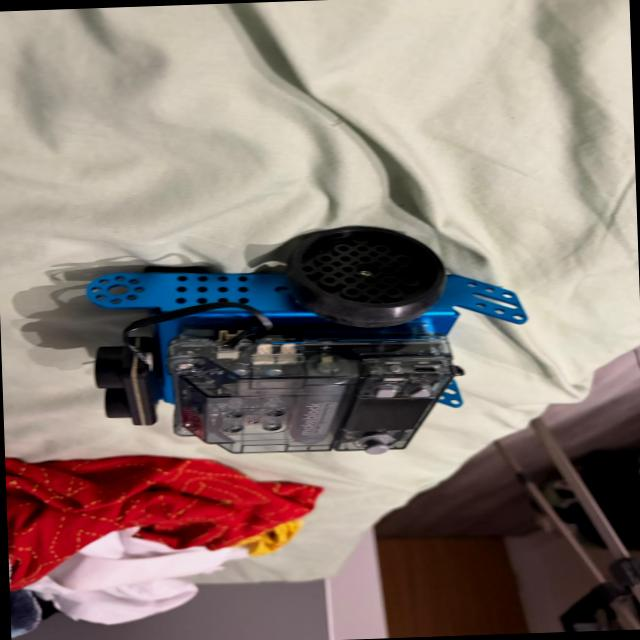mbot-detection: (74, 216, 537, 468)
